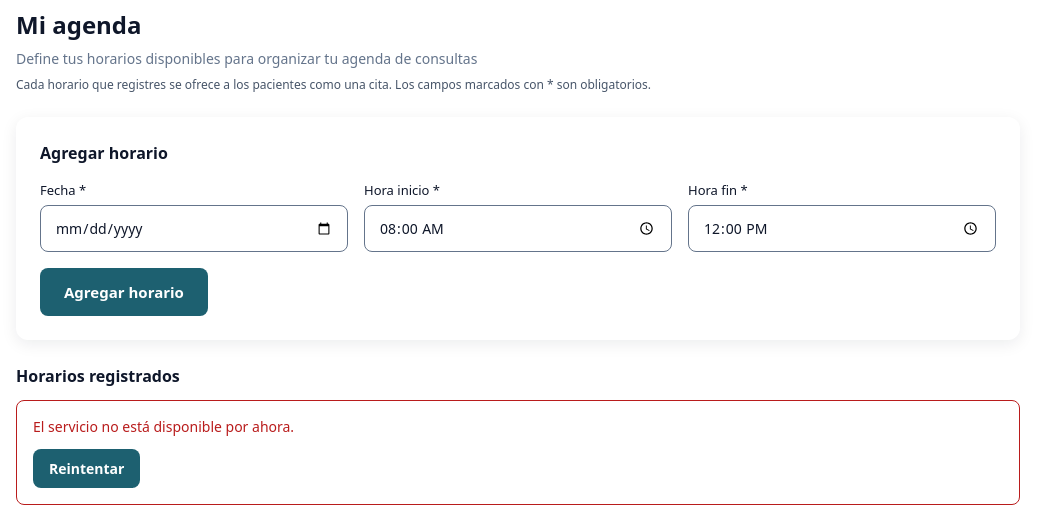
Test: HU-09 definir horarios › si no se puede cargar, ofrece reintentar
Expected: the message shows "no está disponible", x1=33 y1=417 x2=294 y2=436
Click the button "Reintentar" at [87, 468], box x1=33 y1=449 x2=140 y2=488
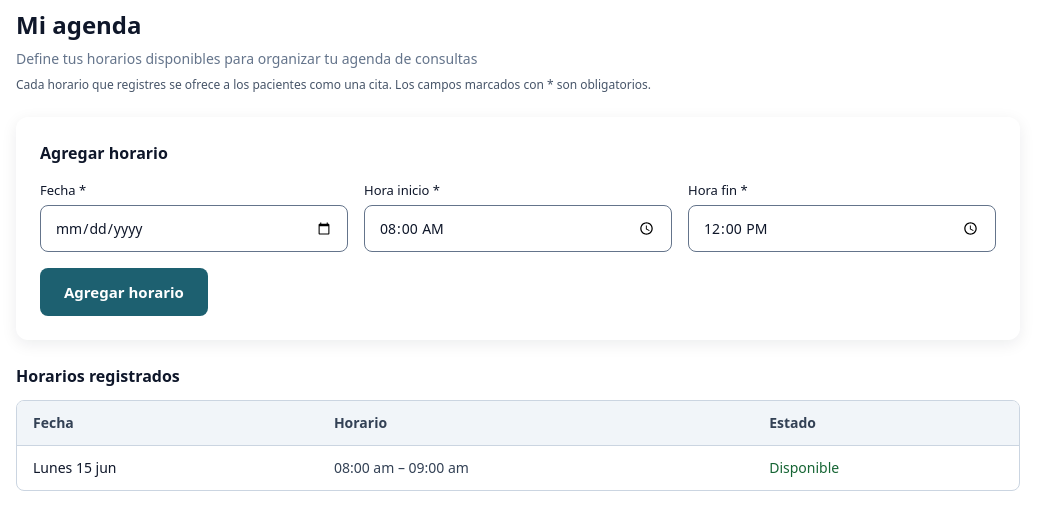
Result: the table is shown at x1=17 y1=401 x2=1019 y2=490
